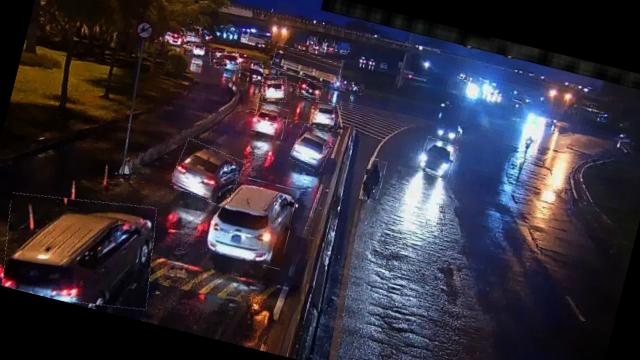Bike: (361, 158, 387, 200)
Car: (0, 179, 166, 321), (205, 172, 299, 270), (169, 140, 245, 207), (289, 124, 336, 172), (416, 137, 458, 180), (250, 102, 290, 141), (258, 73, 290, 105), (308, 100, 342, 130), (208, 47, 241, 72), (295, 78, 324, 102)
Truck: (270, 46, 342, 88)
